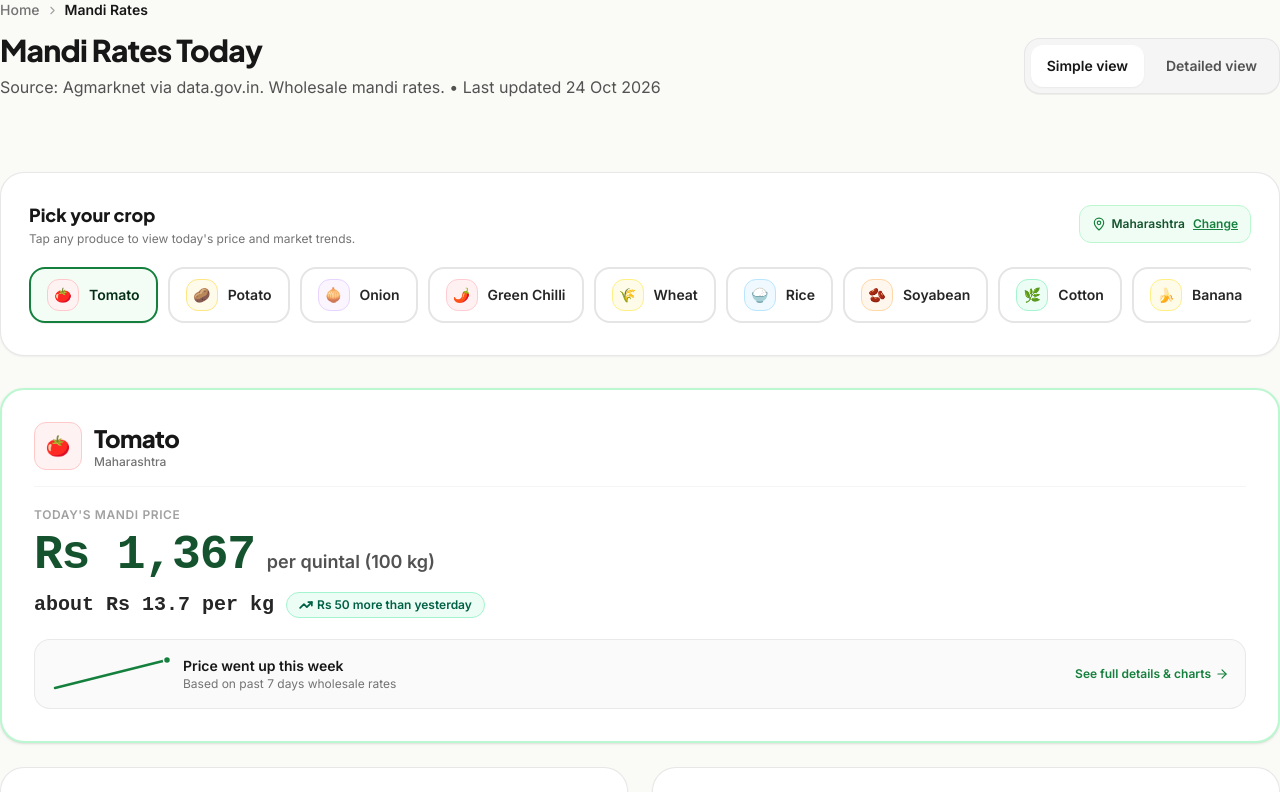
Scenario: Farmer, Admin & Mandi (Part 4) Tests › 6. Mandi Dashboard View Toggle & Simple View › persists view choice in localStorage and renders Simple View components
Expected: the heading "Pick your crop" is shown, [29, 202, 155, 226]
# Click "Detailed view" toggle
What coordinates should you click on to do the following:
click the button "Detailed view"
I would click on:
 (1212, 66)
Its box is [1150, 45, 1273, 87].
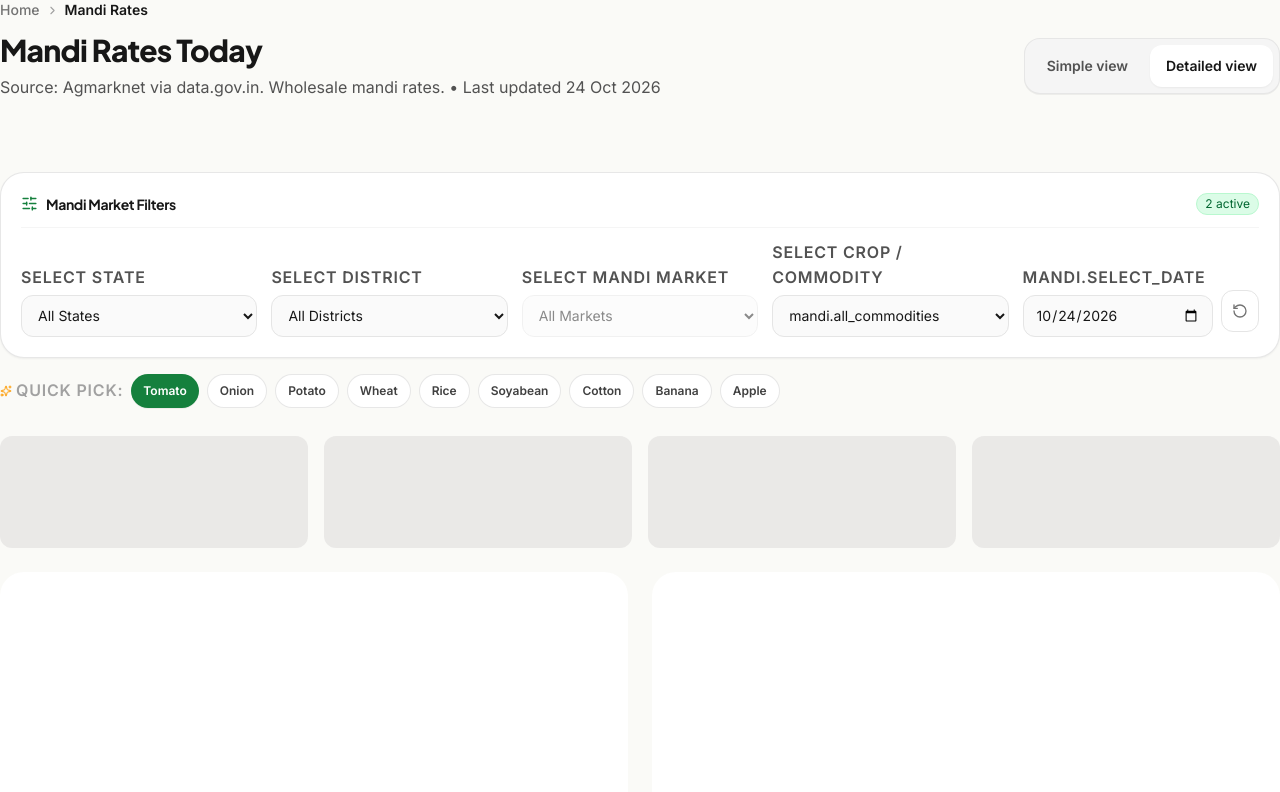
# Click "Simple view" toggle
What coordinates should you click on to do the following:
click the button "Simple view"
I would click on:
 (1087, 66)
Its box is [1031, 45, 1144, 87].
(page scrolled)
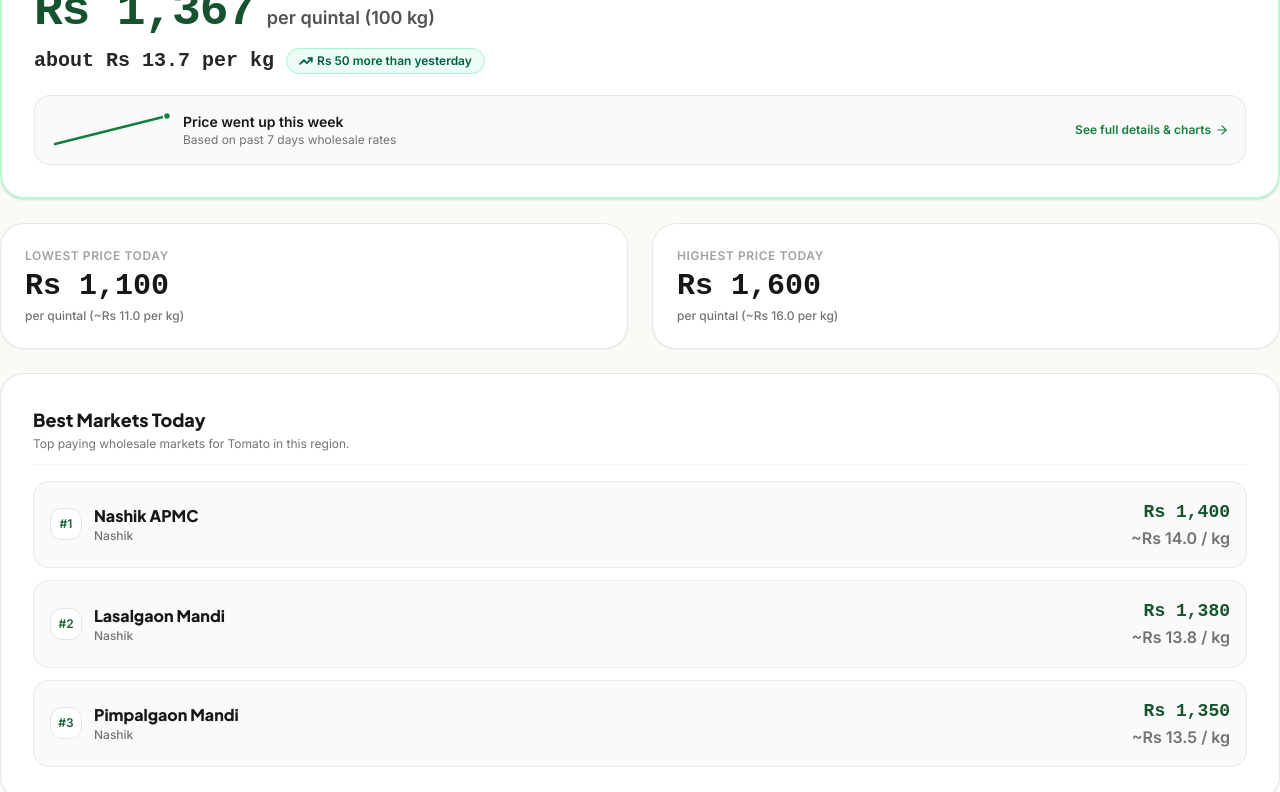
Expected: the text "Lowest Price Today" is shown, [25, 248, 169, 262]
Expected: the text "Highest Price Today" is shown, [677, 248, 824, 262]
Expected: the heading "Best Markets Today" is shown, [33, 408, 206, 430]
